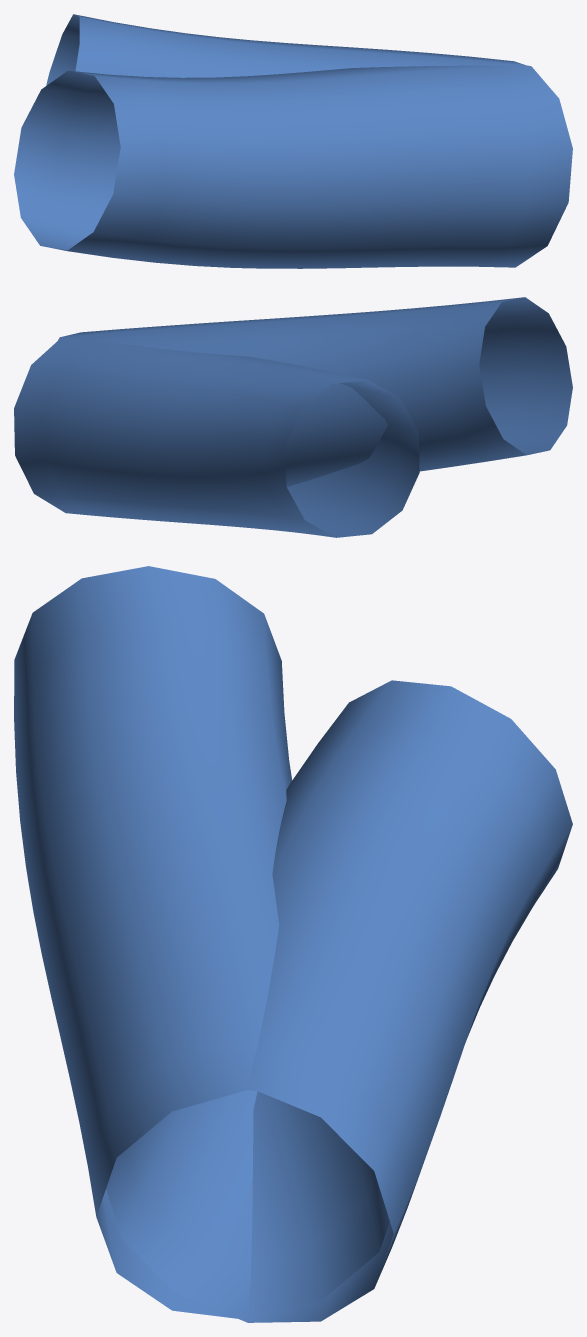
The picture shows the model from 3 angles, top to bottom: view 1: azimuth 30°, elevation 25°; view 2: azimuth 150°, elevation 25°; view 3: azimuth 270°, elevation 25°; orthographic projection. The views are drawn at different scales.
Parts seen in each view (by area): view 1: 右肺下静脉; view 2: 右肺下静脉; view 3: 右肺下静脉.
Boxes of the visible parts, <box> form: 右肺下静脉: <box>14,14,572,268</box>; 右肺下静脉: <box>14,297,572,537</box>; 右肺下静脉: <box>14,566,572,1322</box>.
Size of the model in its own units: 0.0347 by 0.0194 by 0.0216.
